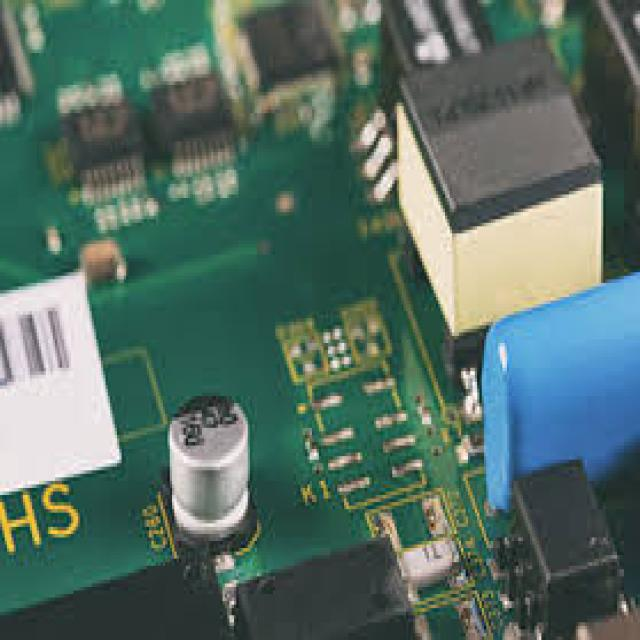pcb: (0, 0, 631, 636), (392, 32, 604, 336), (0, 265, 122, 495), (496, 456, 622, 637)
